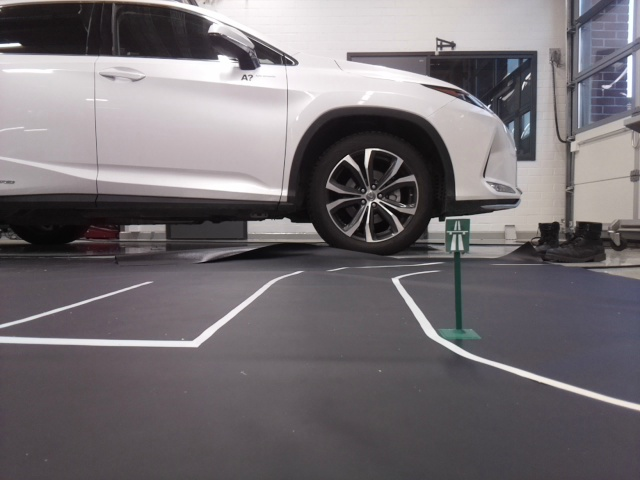HighwayEntrance: (445, 218, 469, 251)
